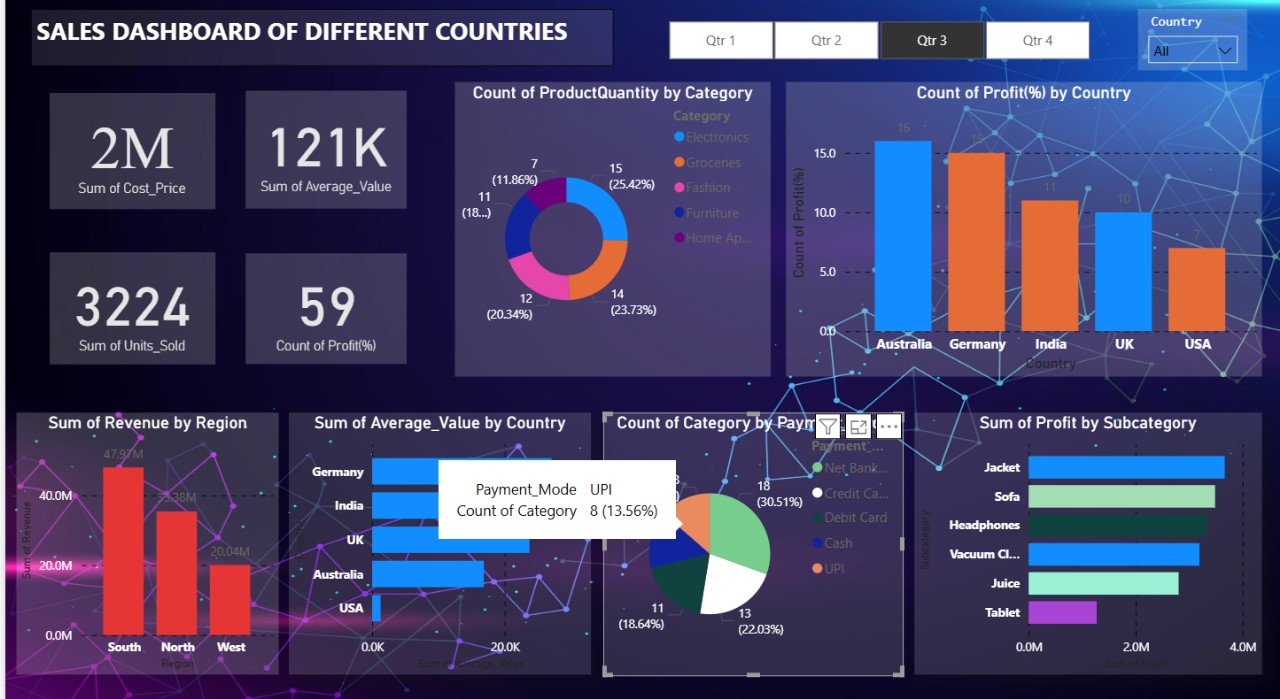

The page's visual inventory and layout, read from the dashboard file:
{"tool":"powerbi","page":{"name":"Page 1","canvas":[1280,720],"ordinal":0},"visuals":[{"type":"textbox","box":[26.1,13.7,584.6,57.6],"z":0},{"type":"columnChart","fields":{"Y":["CountNonNull(Sheet1.Profit(%))"],"Category":["Sheet1.Country"]},"box":[783.5,86.4,477.5,296.4],"z":1000},{"type":"barChart","fields":{"Category":["Sheet1.Subcategory"],"Y":["Sum(Sheet1.Profit)"]},"box":[912.5,418.5,348.5,263.5],"z":2000},{"type":"donutChart","fields":{"Category":["Sheet1.Category"],"Y":["CountNonNull(Sheet1.ProductQuantity)"]},"box":[451.5,86.4,317,296.4],"z":3000},{"type":"pieChart","fields":{"Category":["Sheet1.Payment_Mode"],"Y":["CountNonNull(Sheet1.Category)"]},"box":[599.7,418.5,301.9,264.8],"z":4000},{"type":"card","fields":{"Values":["Sum(Sheet1.Cost_Price)"]},"box":[43.9,97.4,166,116.6],"z":5000},{"type":"card","fields":{"Values":["CountNonNull(Sheet1.Profit(%))"]},"box":[241.5,259.3,161.9,111.1],"z":6000},{"type":"card","fields":{"Values":["Sum(Sheet1.Units_Sold)"]},"box":[43.9,258,166,112.5],"z":7000},{"type":"card","fields":{"Values":["Sum(Sheet1.Average_Value)"]},"box":[241.5,96.1,161.9,118],"z":8000},{"type":"barChart","fields":{"Category":["Sheet1.Country"],"Y":["Sum(Sheet1.Average_Value)"]},"box":[284,418.5,303.3,263.5],"z":9000},{"type":"columnChart","fields":{"Y":["Sum(Sheet1.Revenue)"],"Category":["Sheet1.Region"]},"box":[11,418.5,263.5,263.5],"z":10000},{"type":"slicer","fields":{"Values":["Sheet1.Date.Variation.Date Hierarchy.Quarter"]},"box":[639.5,19.2,472,52.1],"z":11000},{"type":"slicer","fields":{"Values":["Sheet1.Country"]},"box":[1136.2,13.7,109.8,61.7],"z":12000}]}

Visuals, with their boxes on the page's 1280x720 design canvas (x1, y1, x2, y2). These are canvas units, not pixel positions in the 1280x699 screenshot, which may show the page scaled, cropped or inside an application window:
textbox: crop(26, 14, 611, 71)
columnChart - CountNonNull(Sheet1.Profit(%)) x Sheet1.Country: crop(784, 86, 1261, 383)
barChart - Sheet1.Subcategory x Sum(Sheet1.Profit): crop(912, 418, 1261, 682)
donutChart - Sheet1.Category x CountNonNull(Sheet1.ProductQuantity): crop(452, 86, 768, 383)
pieChart - Sheet1.Payment_Mode x CountNonNull(Sheet1.Category): crop(600, 418, 902, 683)
card - Sum(Sheet1.Cost_Price): crop(44, 97, 210, 214)
card - CountNonNull(Sheet1.Profit(%)): crop(242, 259, 403, 370)
card - Sum(Sheet1.Units_Sold): crop(44, 258, 210, 370)
card - Sum(Sheet1.Average_Value): crop(242, 96, 403, 214)
barChart - Sheet1.Country x Sum(Sheet1.Average_Value): crop(284, 418, 587, 682)
columnChart - Sum(Sheet1.Revenue) x Sheet1.Region: crop(11, 418, 274, 682)
slicer - Sheet1.Date.Variation.Date Hierarchy.Quarter: crop(640, 19, 1112, 71)
slicer - Sheet1.Country: crop(1136, 14, 1246, 75)
